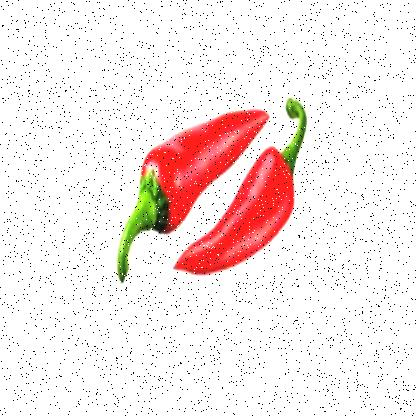chili: (116, 75, 307, 293)
